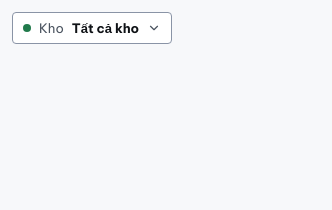
Ô chọn kho › mặc định "Tất cả kho"; chọn "Kho Long An" → request sau mang X-Warehouse-Id của kho đó
Step 1. Press ArrowDown in the button with aria-label "Kho đang làm việc: Tất cả kho", box [12,12,172,44]
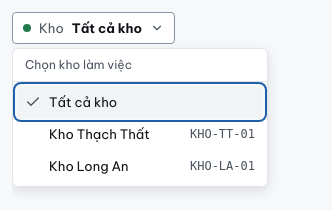
Step 2. Click the menu item "Kho Long An KHO-LA-01" → (89,166), box [49,158,255,174]
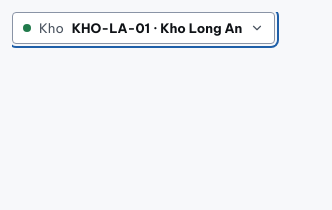
Expected: the button with aria-label "Kho đang làm việc: Kho Long An" is shown, [12,12,275,44]
